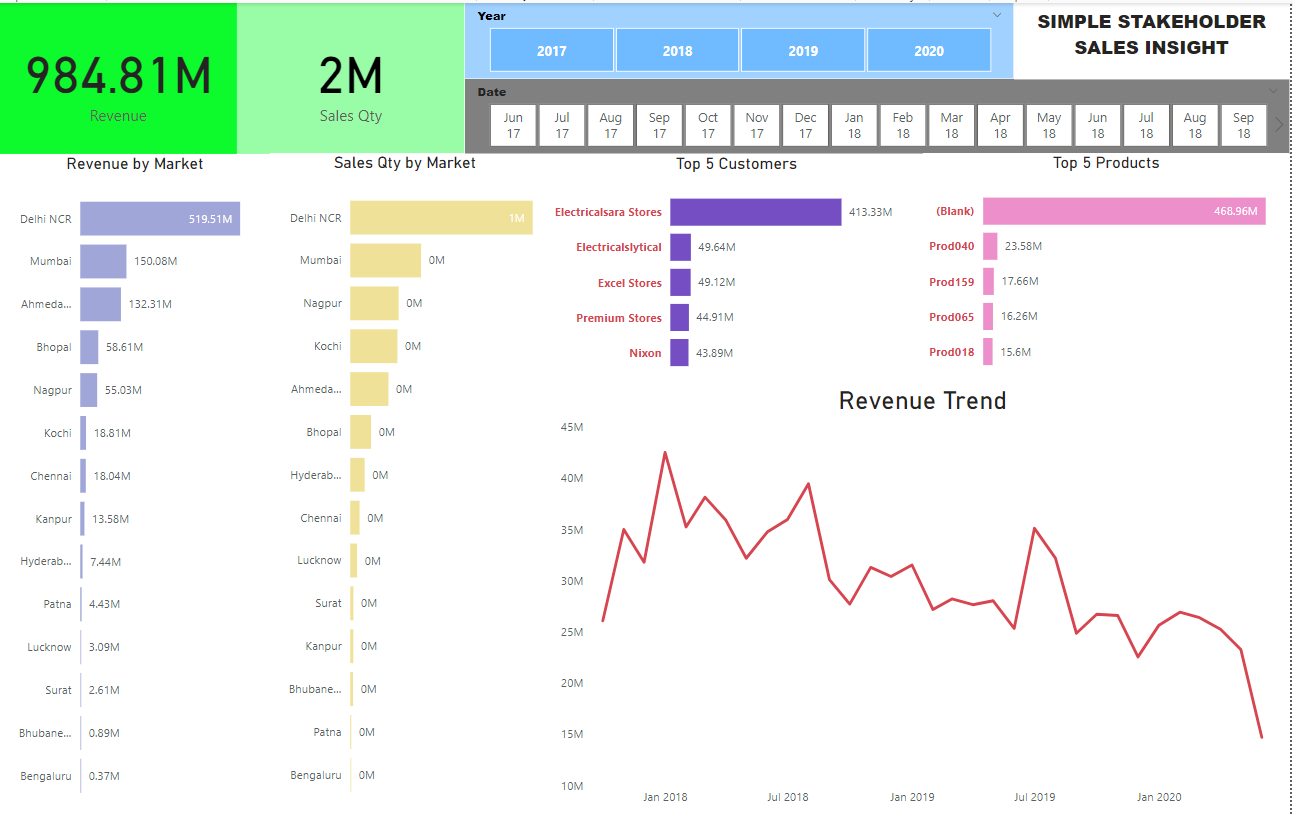

Layout of this report page (visuals, bound fields, positions):
{"tool":"powerbi","page":{"name":"Page 1","canvas":[1350,850],"ordinal":0},"visuals":[{"type":"card","fields":{"Values":["BaseMeasures.Revenue"]},"box":[0,0,248,158.1],"z":0},{"type":"card","fields":{"Values":["BaseMeasures.Sales Qty"]},"box":[248.3,0,238.4,158.2],"z":1000},{"type":"barChart","title":"Revenue by Market","fields":{"Y":["BaseMeasures.Revenue"],"Category":["sales markets.markets_name"]},"box":[0,158.2,282.3,692],"z":2000},{"type":"barChart","title":"Sales Qty by Market","fields":{"Y":["BaseMeasures.Sales Qty"],"Category":["sales markets.markets_name"]},"box":[282.3,157.1,282.3,692],"z":3000},{"type":"slicer","fields":{"Values":["sales date.year"]},"box":[486.6,0,574.5,79.1],"z":4000},{"type":"slicer","fields":{"Values":["sales date.cy_date"]},"box":[486.6,79.1,863.4,78],"z":4001},{"type":"barChart","title":"Top 5 Customers ","fields":{"Category":["sales customers.custmer_name"],"Y":["BaseMeasures.Revenue"]},"box":[574.5,158.2,392.1,242.8],"z":4002},{"type":"barChart","title":"Top 5 Products","fields":{"Y":["BaseMeasures.Revenue"],"Category":["sales products.product_code"]},"box":[966.6,157.1,383.4,242.8],"z":4003},{"type":"stackedAreaChart","title":"Revenue Trend","fields":{"Y":["BaseMeasures.Revenue"],"Category":["sales date.cy_date.Variation.Date Hierarchy.Year","sales date.cy_date.Variation.Date Hierarchy.Quarter","sales date.cy_date.Variation.Date Hierarchy.Month","sales date.cy_date.Variation.Date Hierarchy.Day"]},"box":[582.2,399.8,767.8,449.3],"z":4004},{"type":"textbox","box":[1061.5,0,287.9,79.6],"z":4005}]}

Visuals, with their boxes in screenshot pixels (x1, y1, x2, y2), scaled from the page's 1350x850 canvas onto the 1293x815 screenshot:
card - BaseMeasures.Revenue: (0,0,238,152)
card - BaseMeasures.Sales Qty: (238,0,466,152)
"Revenue by Market" barChart: (0,152,270,814)
"Sales Qty by Market" barChart: (270,151,541,814)
slicer - sales date.year: (466,0,1016,76)
slicer - sales date.cy_date: (466,76,1292,151)
"Top 5 Customers " barChart: (550,152,926,384)
"Top 5 Products" barChart: (926,151,1292,383)
"Revenue Trend" stackedAreaChart: (558,383,1292,814)
textbox: (1017,0,1292,76)
